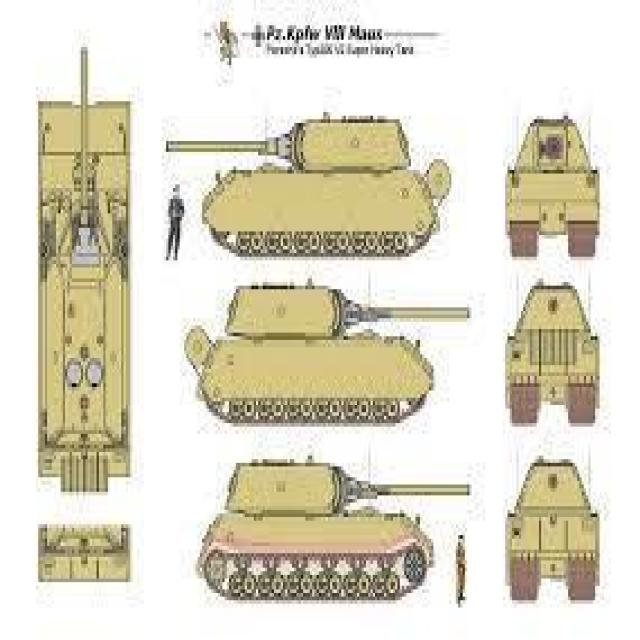Tanks: (174, 114, 448, 255), (198, 446, 434, 606), (37, 99, 131, 490), (192, 278, 437, 426), (506, 112, 601, 257), (505, 280, 600, 425), (508, 458, 600, 598), (38, 526, 133, 591)
